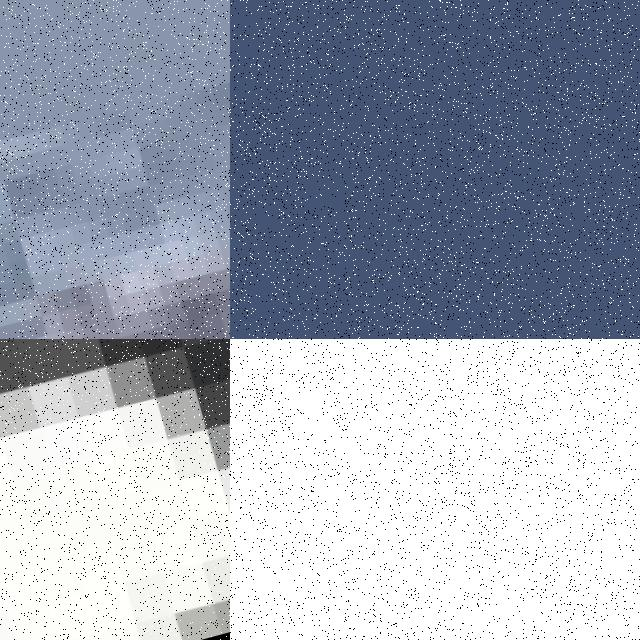drone: (0, 0, 230, 339), (0, 339, 230, 640)
